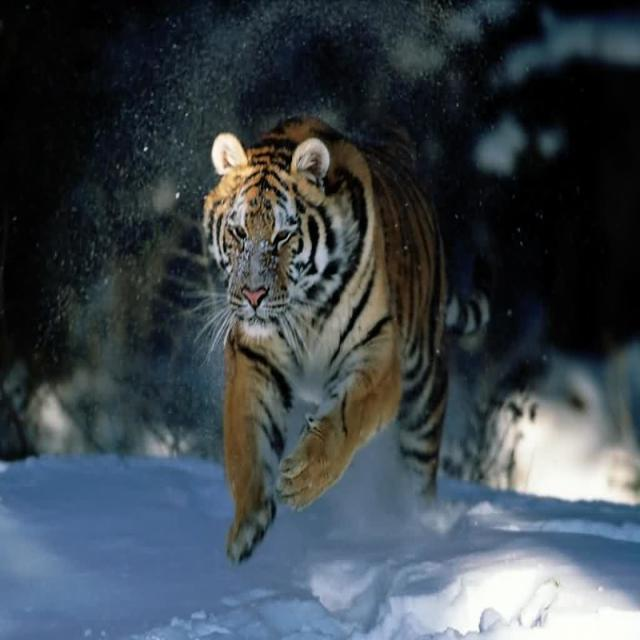Tiger: (199, 111, 494, 568)
